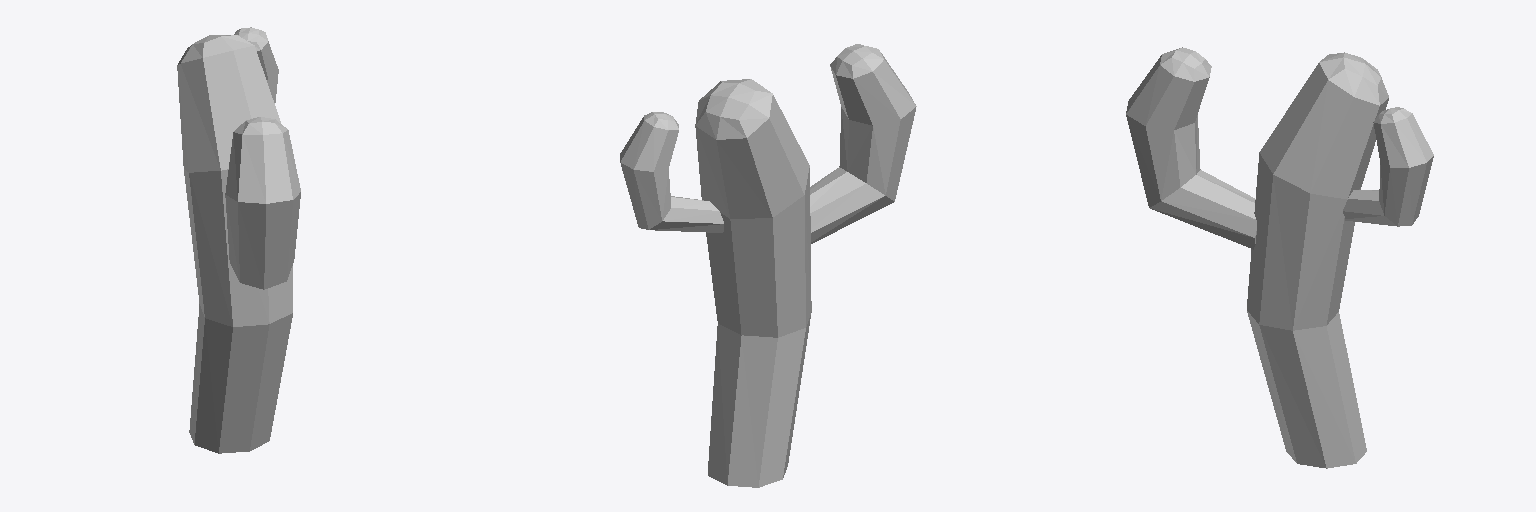
File: cactus_m.obj
The picture shows the model from 3 angles: view 1: azimuth 30°, elevation 25°; view 2: azimuth 150°, elevation 25°; view 3: azimuth 270°, elevation 25°; orthographic projection.
Parts seen in each view (by area): view 1: Cactus1_Cube.001; view 2: Cactus1_Cube.001; view 3: Cactus1_Cube.001.
Part boxes in pixels (x1,y1,x2,y2): Cactus1_Cube.001: (177, 27, 300, 453); Cactus1_Cube.001: (620, 44, 916, 487); Cactus1_Cube.001: (1126, 47, 1433, 468).
Size of the model in its own units: 5.39 by 12.17 by 8.62.